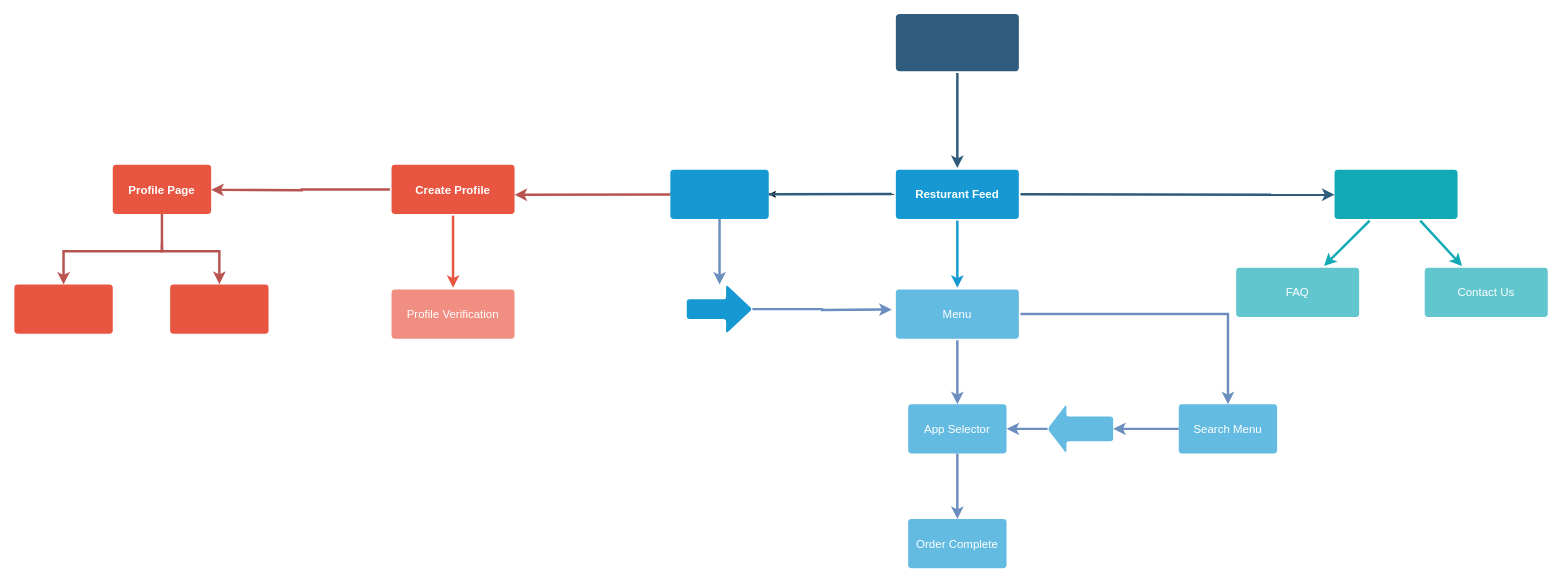
The diagram is 1561 pixels wide and 582 high, and some of its shapes have lost their labels. The centre of each missing label's shape, as x and y in pixels:
About: pixel 1395 194
Edit Profile: pixel 63 308
Home Page: pixel 956 42
Reset Password: pixel 219 308
Search Resturants: pixel 719 194
